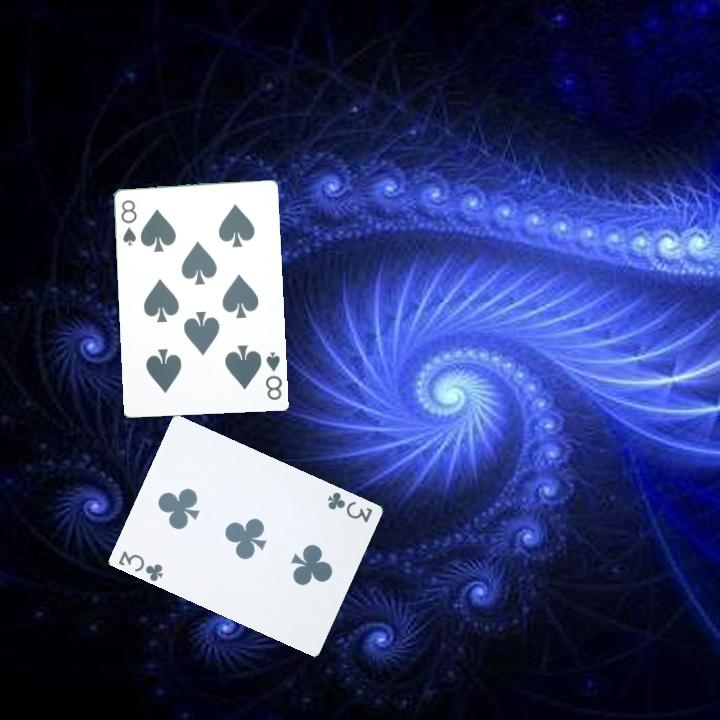3c: (114, 546, 166, 584), (323, 488, 375, 525)
8s: (261, 348, 285, 403), (117, 196, 139, 248)
